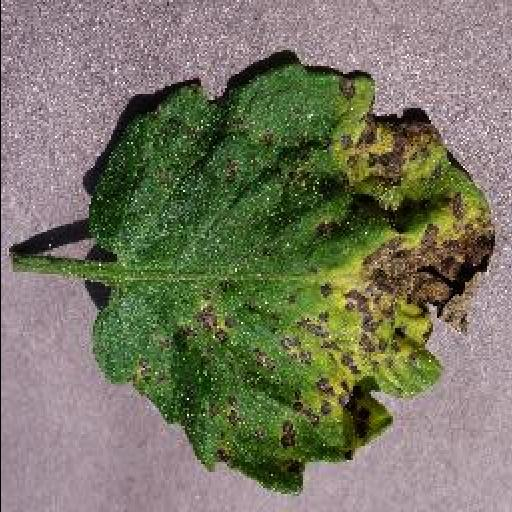disease_tomato: (82, 58, 494, 494)
